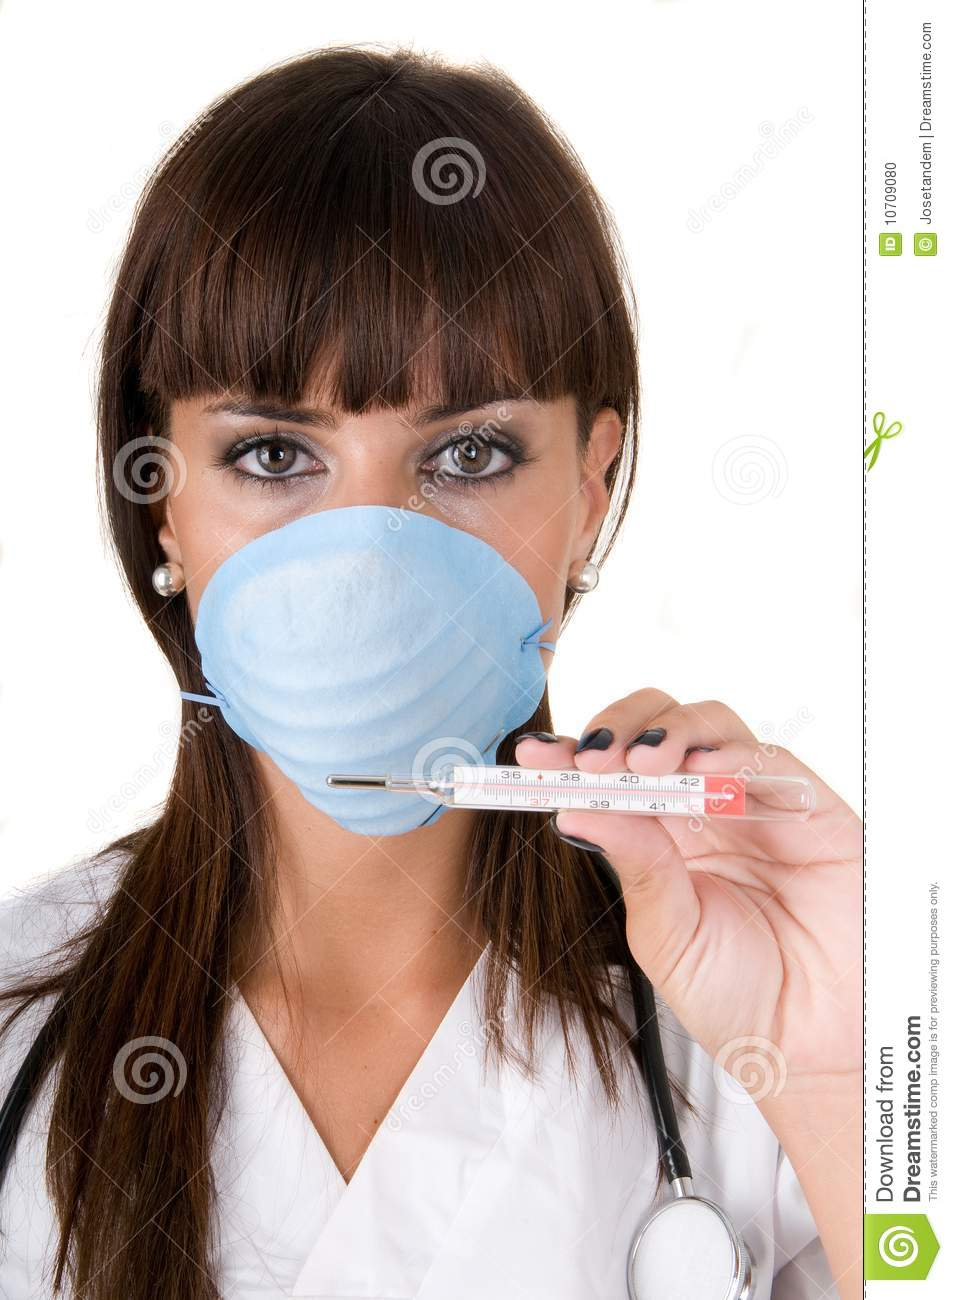mask: (198, 525, 566, 821)
